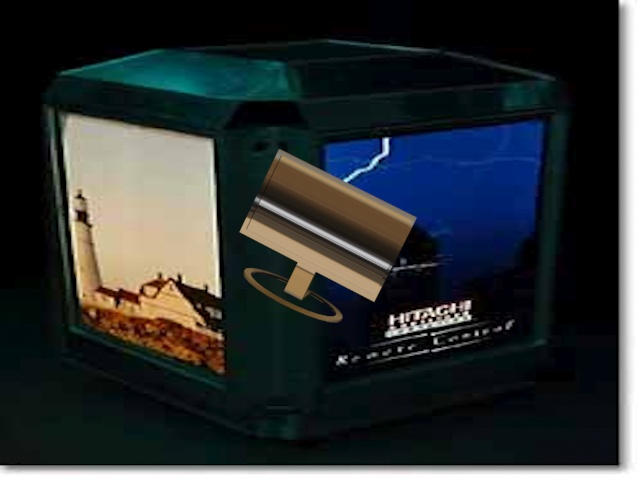monitor: (233, 144, 424, 336)
